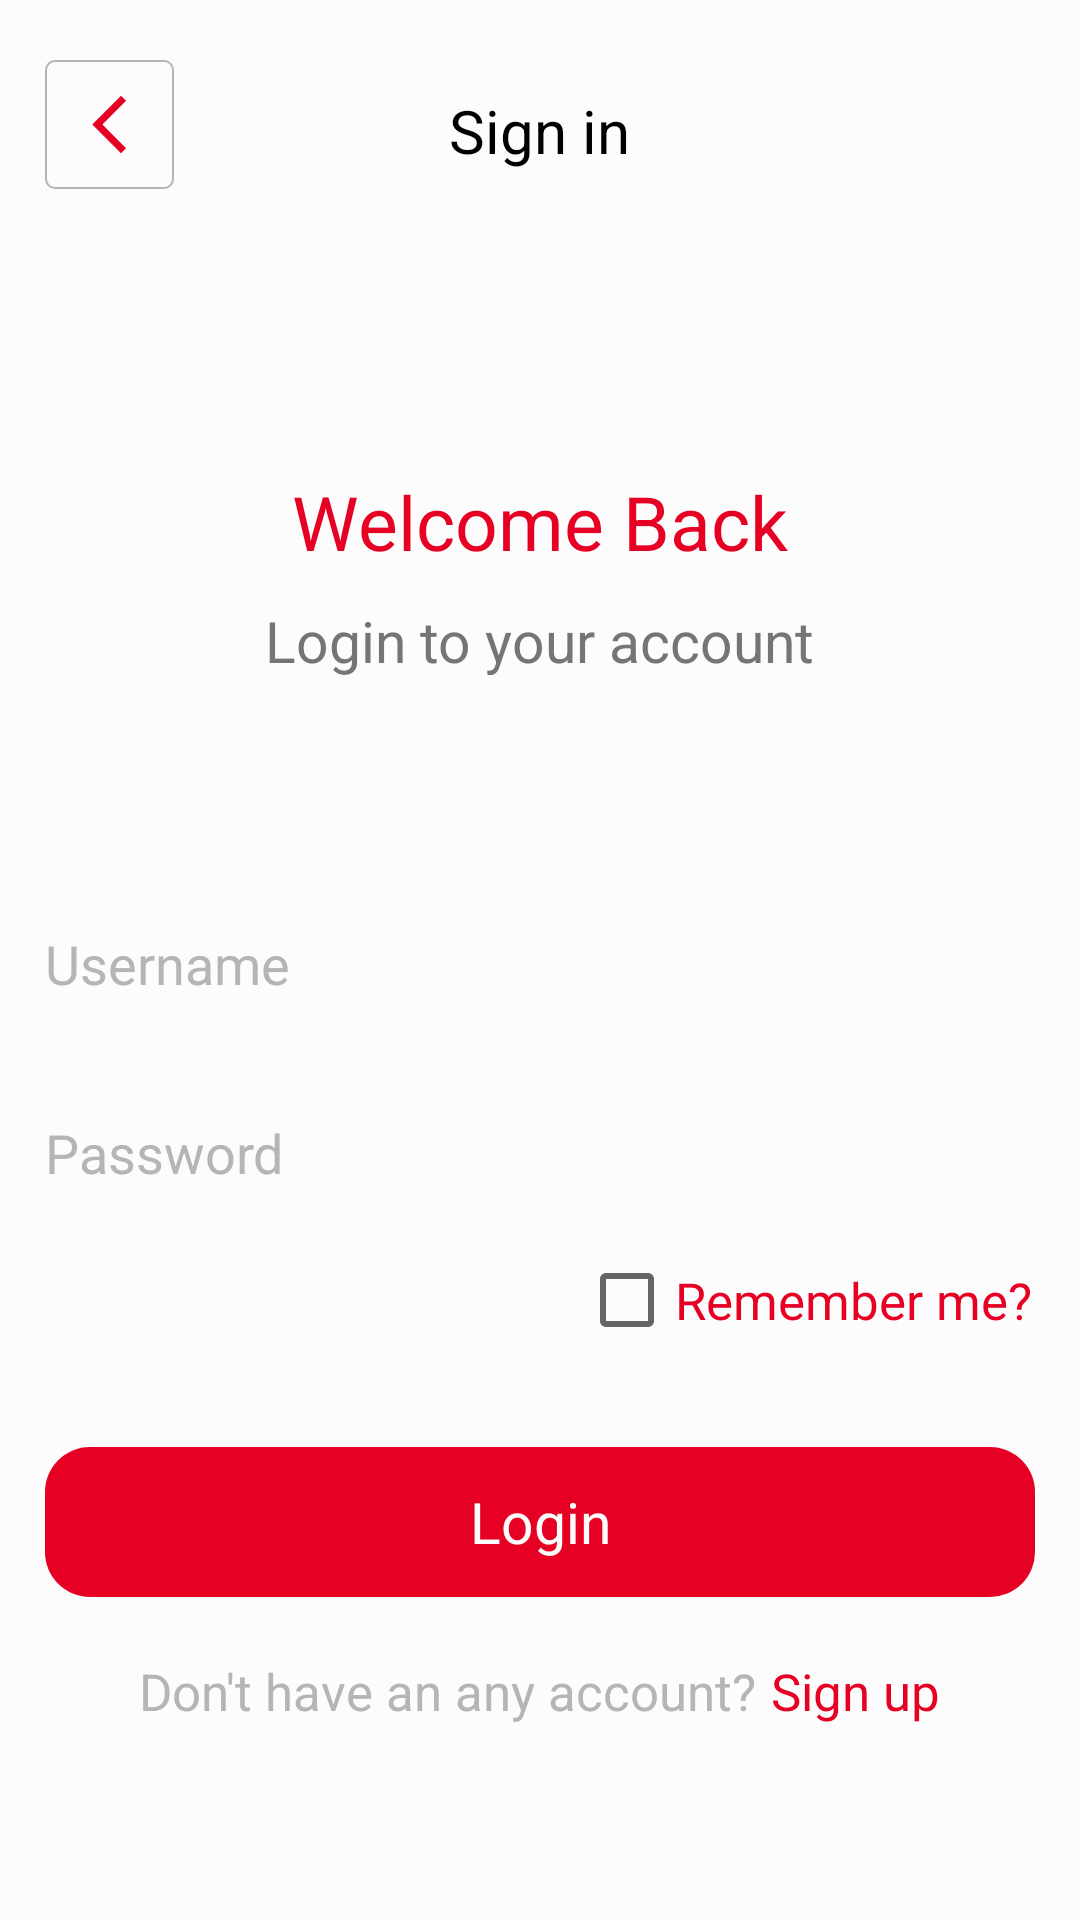

Screen size 1080x1920. Icon name, then its box in pixels as (x1, y1, x2, y2):
backarrow: (45, 60, 174, 189)
